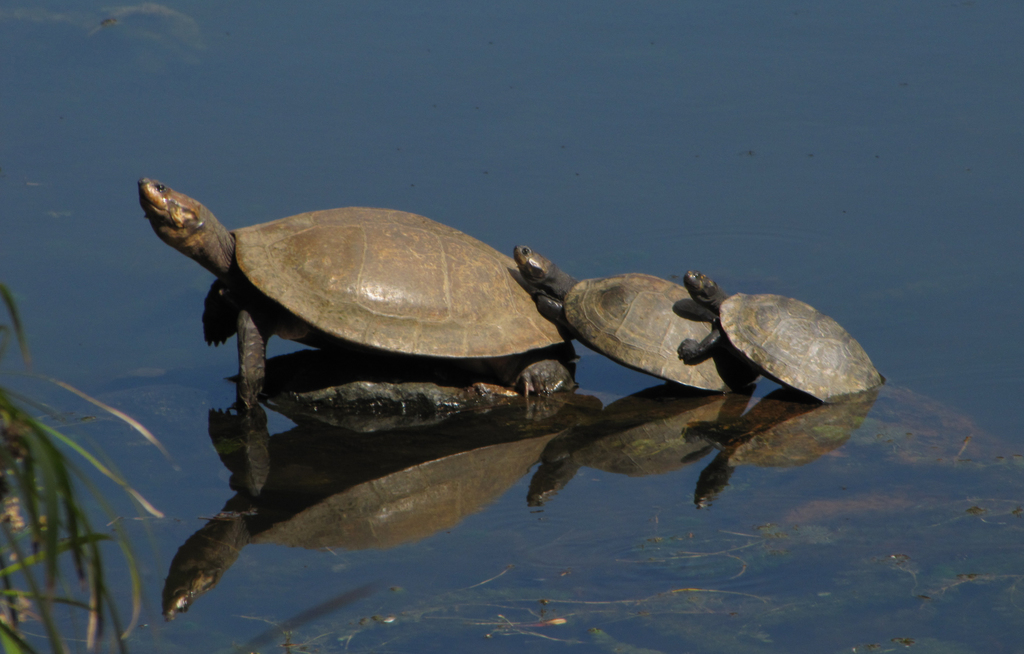Sea turtles: (129, 178, 573, 406), (513, 242, 768, 396), (670, 266, 885, 406)
